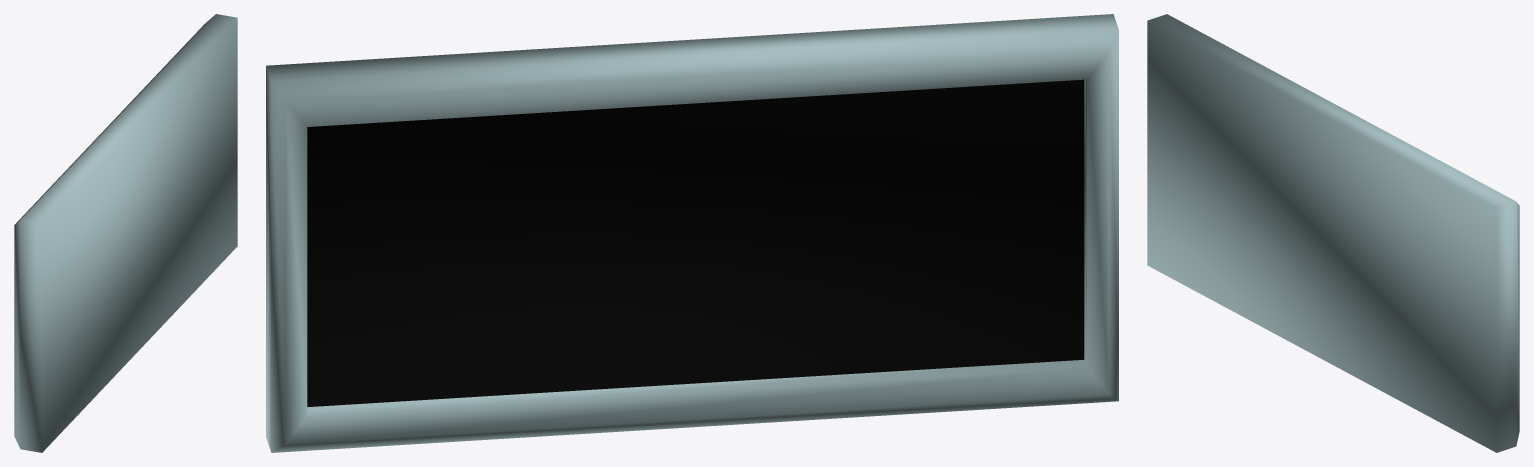
3 renders of one model, left to right at view 1: azimuth 30°, elevation 25°; view 2: azimuth 150°, elevation 25°; view 3: azimuth 270°, elevation 25°, orthographic. The views are drawn at different scales.
Visible parts, largest first — view 1: Cube.007; view 2: Cube.007; view 3: Cube.007.
Part boxes in pixels (<box>): Cube.007: <box>14,14,237,452</box>; Cube.007: <box>266,14,1118,452</box>; Cube.007: <box>1147,14,1519,452</box>.
Size of the model in its own units: 189 by 111 by 153.
